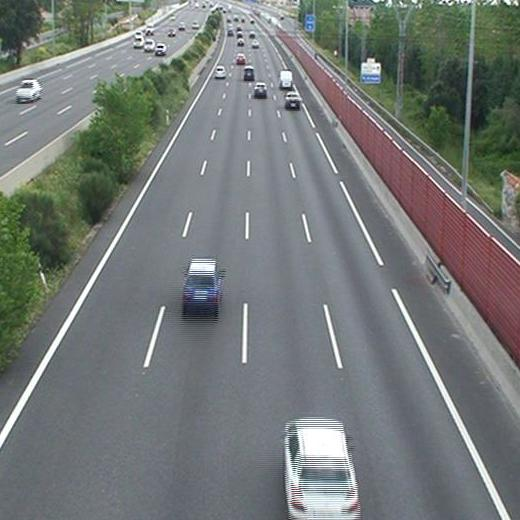car: (284, 420, 361, 519), (183, 260, 221, 308), (284, 92, 302, 107), (255, 82, 266, 95), (244, 67, 255, 79), (215, 67, 226, 78), (235, 54, 246, 63)
van: (280, 70, 292, 89)
